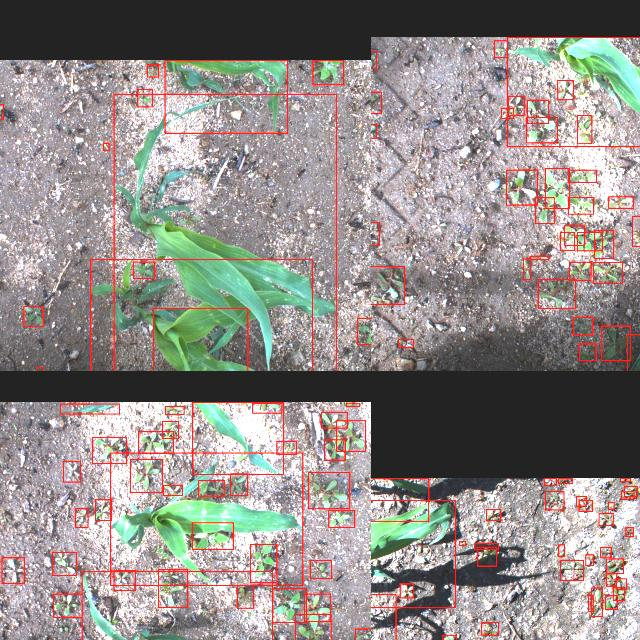crop: (114, 93, 336, 371), (111, 452, 303, 584), (91, 259, 313, 371), (507, 36, 640, 146), (81, 570, 272, 640), (371, 499, 455, 606), (165, 59, 287, 132), (192, 401, 284, 473), (154, 307, 248, 371), (371, 477, 429, 521), (60, 403, 120, 413), (627, 334, 640, 371)
weed: (308, 472, 349, 508), (371, 266, 404, 304), (273, 588, 307, 622), (538, 278, 576, 308), (158, 569, 188, 607), (192, 522, 234, 548), (130, 458, 162, 492), (507, 170, 538, 204), (251, 544, 277, 582), (545, 168, 569, 208), (602, 326, 630, 360), (295, 614, 331, 640), (336, 420, 366, 450), (92, 437, 126, 463), (526, 116, 558, 142), (138, 431, 174, 453), (312, 60, 343, 84), (304, 593, 330, 621), (54, 594, 82, 616), (53, 551, 77, 575), (2, 557, 24, 583), (594, 262, 622, 282), (594, 230, 614, 258), (528, 99, 548, 123), (560, 559, 584, 579), (568, 196, 594, 214), (536, 197, 554, 223), (329, 509, 355, 526), (114, 570, 136, 590), (324, 439, 346, 459), (578, 232, 602, 250), (236, 584, 254, 608), (321, 411, 347, 427), (198, 479, 224, 495), (578, 115, 592, 144), (564, 225, 584, 245), (544, 490, 564, 510), (569, 262, 591, 280), (310, 560, 332, 578), (230, 473, 248, 495), (23, 306, 42, 326), (478, 546, 497, 566), (357, 317, 371, 344), (573, 317, 593, 335), (133, 262, 155, 278), (96, 498, 112, 520), (568, 170, 596, 182), (64, 461, 80, 482), (558, 79, 574, 99), (608, 196, 634, 208), (578, 344, 596, 361), (252, 402, 282, 412), (592, 586, 602, 616), (508, 96, 524, 114), (162, 420, 178, 438), (276, 440, 296, 454), (138, 88, 152, 106), (560, 232, 574, 250), (74, 508, 88, 526), (606, 558, 624, 572), (494, 40, 508, 56), (633, 216, 640, 246), (371, 91, 381, 112), (355, 628, 371, 640), (482, 622, 498, 634), (371, 221, 379, 244), (401, 583, 414, 597), (164, 485, 182, 495), (486, 508, 500, 520), (605, 595, 617, 609), (599, 512, 613, 524), (166, 405, 184, 413), (474, 543, 498, 549), (614, 586, 624, 600), (579, 500, 593, 510), (624, 485, 638, 495), (524, 258, 530, 280), (398, 339, 414, 347), (148, 64, 158, 76), (502, 107, 514, 117), (600, 546, 612, 556), (606, 573, 616, 585), (588, 594, 594, 612), (371, 50, 377, 67), (616, 578, 626, 588), (576, 495, 586, 505), (622, 491, 634, 499), (443, 634, 457, 640), (586, 554, 594, 564), (530, 255, 548, 259), (558, 544, 564, 556), (544, 478, 556, 484), (371, 123, 376, 137), (626, 526, 632, 536), (558, 478, 572, 482), (346, 402, 359, 406), (0, 103, 3, 118), (608, 502, 614, 508), (36, 366, 43, 371), (104, 142, 108, 150), (460, 541, 466, 545), (620, 478, 630, 480)
